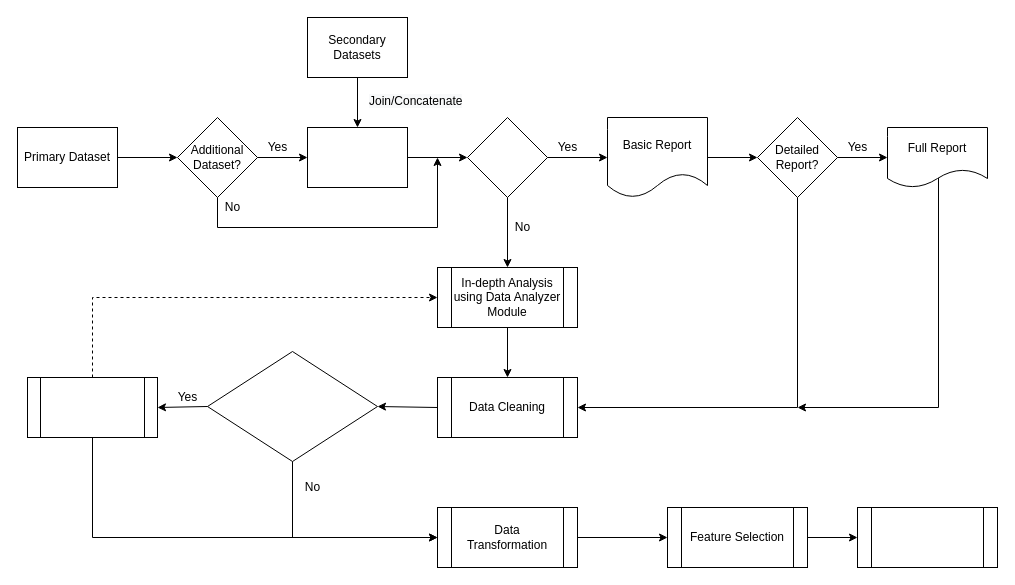
The diagram is 1015 pixels wide and 585 high, and some of its shapes have lost their labels. The centre of each missing label's shape, as x and y in pixels:
"Appended Dataset" belongs at point 357,157.
"Feature Exploration & Composition?" belongs at point 292,406.
"Modelling" belongs at point 927,537.
"Quick Analysis?" belongs at point 507,157.
"Stability Check" belongs at point 92,407.
